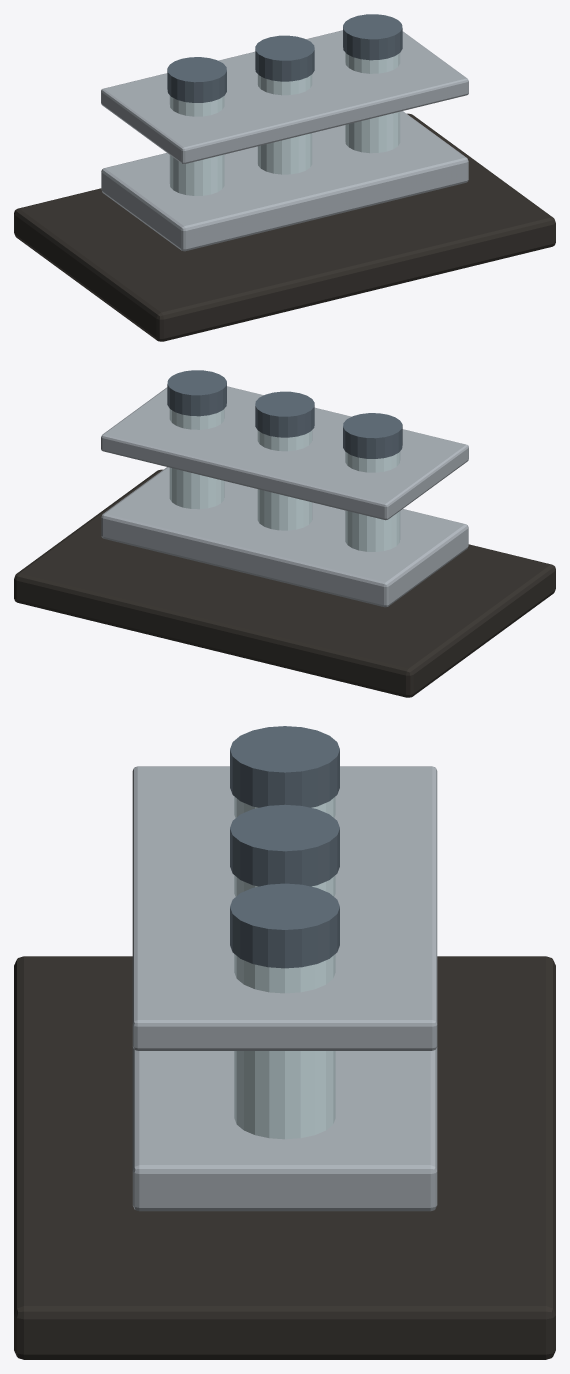
Rendered from ancient-biotech.glb.
The picture shows the model from 3 angles, top to bottom: view 1: azimuth 30°, elevation 25°; view 2: azimuth 150°, elevation 25°; view 3: azimuth 270°, elevation 25°; orthographic projection. The views are drawn at different scales.
Visible parts, largest first — view 1: ancient-biotech-black-pallet, ancient-biotech-rack, ancient-biotech-shelf, ancient-biotech-vial-0, ancient-biotech-vial-1, ancient-biotech-vial-2, ancient-biotech-cap-1, ancient-biotech-cap-2, ancient-biotech-cap-0; view 2: ancient-biotech-black-pallet, ancient-biotech-rack, ancient-biotech-shelf, ancient-biotech-vial-0, ancient-biotech-vial-1, ancient-biotech-vial-2, ancient-biotech-cap-1, ancient-biotech-cap-2, ancient-biotech-cap-0; view 3: ancient-biotech-black-pallet, ancient-biotech-shelf, ancient-biotech-rack, ancient-biotech-vial-2, ancient-biotech-cap-2, ancient-biotech-cap-0, ancient-biotech-cap-1.
Boxes of the visible parts, x1,y1,x2,y2 form: ancient-biotech-black-pallet: [14, 113, 555, 341]; ancient-biotech-rack: [101, 111, 468, 251]; ancient-biotech-shelf: [101, 30, 468, 164]; ancient-biotech-vial-0: [169, 95, 224, 195]; ancient-biotech-vial-1: [257, 74, 312, 174]; ancient-biotech-vial-2: [345, 53, 400, 153]; ancient-biotech-cap-1: [255, 35, 314, 81]; ancient-biotech-cap-2: [343, 14, 402, 60]; ancient-biotech-cap-0: [167, 57, 226, 102]; ancient-biotech-black-pallet: [14, 469, 555, 697]; ancient-biotech-rack: [101, 467, 468, 607]; ancient-biotech-shelf: [101, 386, 468, 520]; ancient-biotech-vial-0: [345, 451, 400, 551]; ancient-biotech-vial-1: [257, 430, 312, 530]; ancient-biotech-vial-2: [169, 409, 224, 509]; ancient-biotech-cap-1: [255, 391, 314, 437]; ancient-biotech-cap-2: [167, 370, 226, 416]; ancient-biotech-cap-0: [343, 413, 402, 458]; ancient-biotech-black-pallet: [14, 956, 555, 1359]; ancient-biotech-shelf: [132, 766, 437, 1050]; ancient-biotech-rack: [132, 1047, 437, 1211]; ancient-biotech-vial-2: [234, 954, 335, 1139]; ancient-biotech-cap-2: [230, 883, 339, 968]; ancient-biotech-cap-0: [230, 726, 339, 807]; ancient-biotech-cap-1: [230, 804, 339, 886].
Bounding box in the file's own units: 1.18 × 0.5487 × 0.7552.
